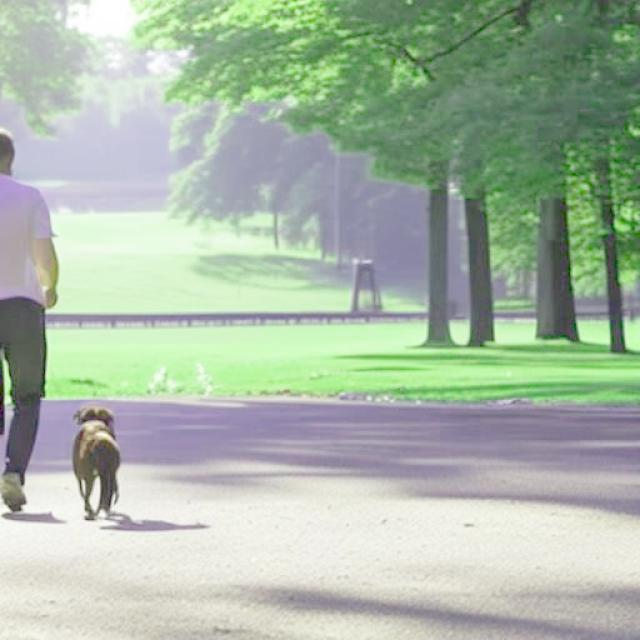Unleashed_Dog: (0, 291, 123, 522)
